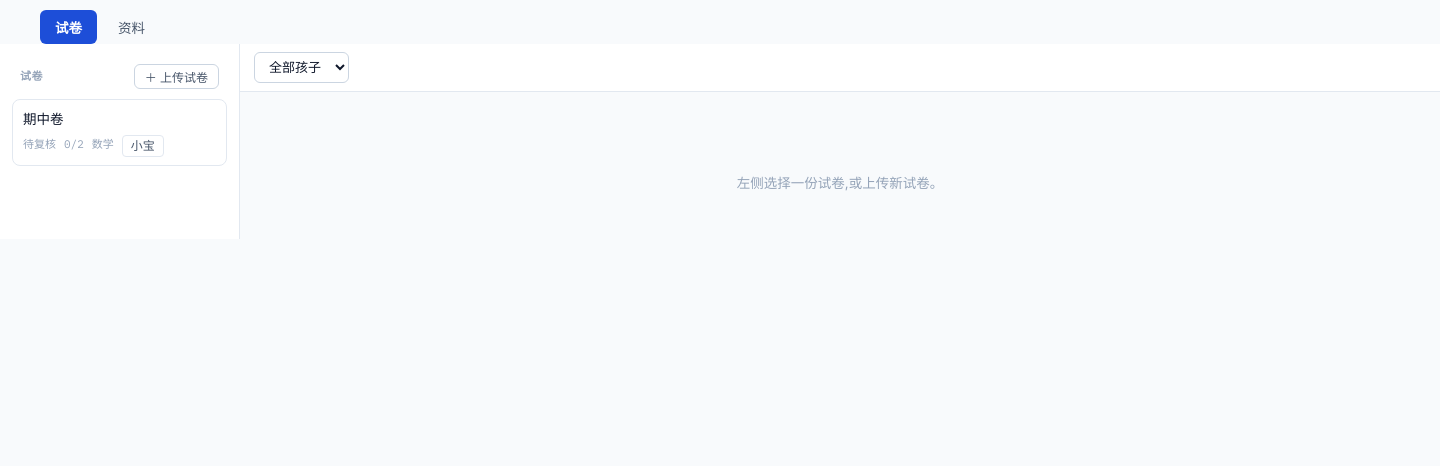
it: ReviewView › 挂载:左侧卷列表 + 选中卷加载题目详情
Click the text "期中卷". click: (43, 119)
box: [23, 111, 64, 127]
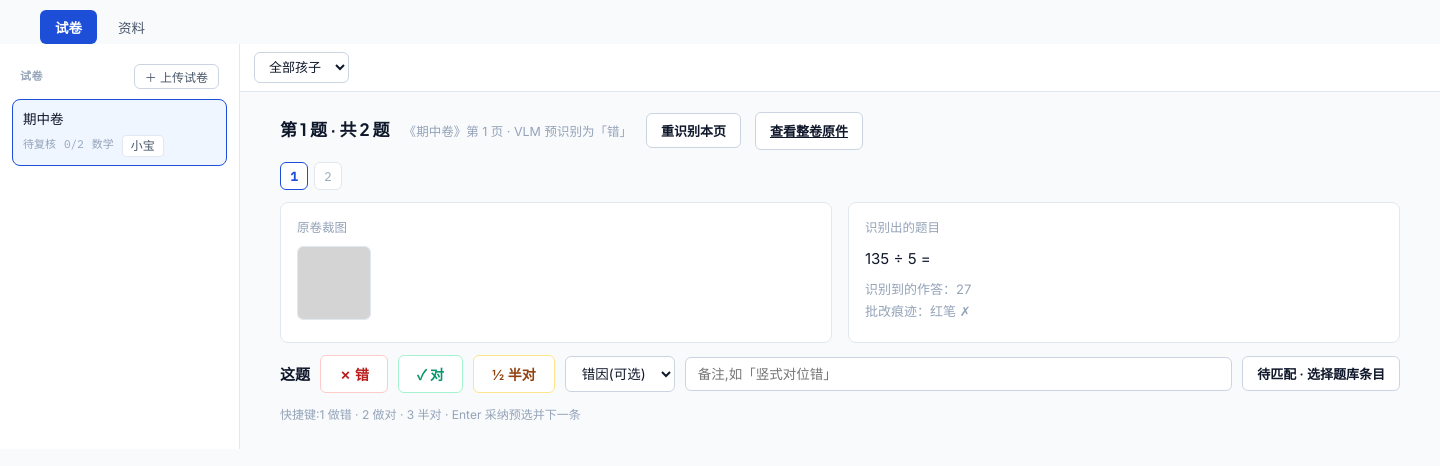
Check: the text "135 ÷ 5 =" is shown, box [865, 249, 931, 268]
Check: the text "批改痕迹：红笔 ✗" is shown, box [865, 303, 971, 319]
